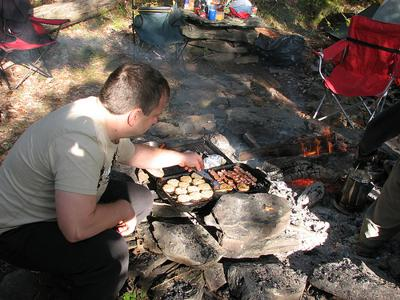person: (2, 65, 206, 300)
